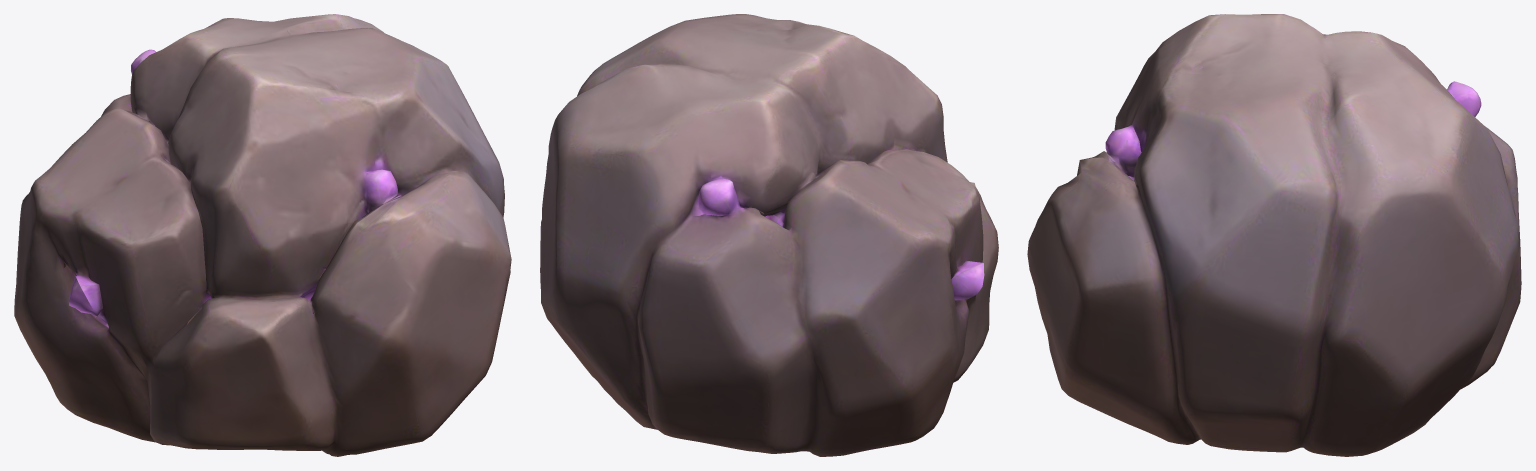
The model's file is mine-rock-1.glb.
3 renders of one model, left to right at view 1: azimuth 30°, elevation 25°; view 2: azimuth 150°, elevation 25°; view 3: azimuth 270°, elevation 25°, orthographic. The views are drawn at different scales.
Parts seen in each view (by area): view 1: tripo_node_7486e224-43b6-4a56-bb0c-0d49acf6ea82; view 2: tripo_node_7486e224-43b6-4a56-bb0c-0d49acf6ea82; view 3: tripo_node_7486e224-43b6-4a56-bb0c-0d49acf6ea82.
Part boxes in pixels (x1=…): tripo_node_7486e224-43b6-4a56-bb0c-0d49acf6ea82: x1=14, y1=14, x2=511, y2=456; tripo_node_7486e224-43b6-4a56-bb0c-0d49acf6ea82: x1=540, y1=14, x2=998, y2=456; tripo_node_7486e224-43b6-4a56-bb0c-0d49acf6ea82: x1=1027, y1=14, x2=1521, y2=456.
Size of the model in its own units: 0.9904 by 0.8155 by 0.9904.
Materials: 1 (1 with a texture image).
